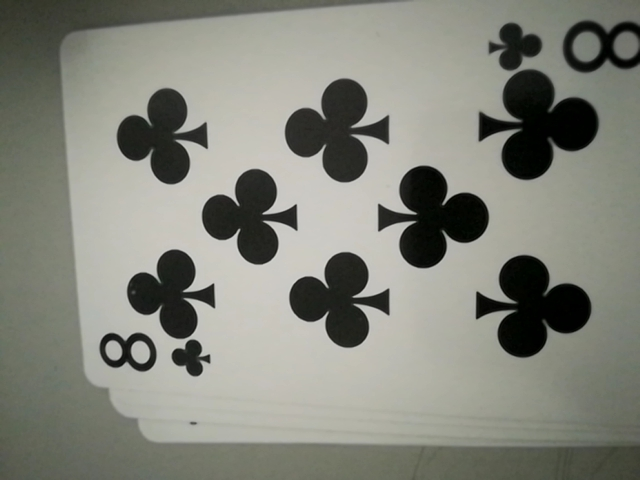mh 8: (484, 6, 640, 77), (95, 325, 212, 385)
